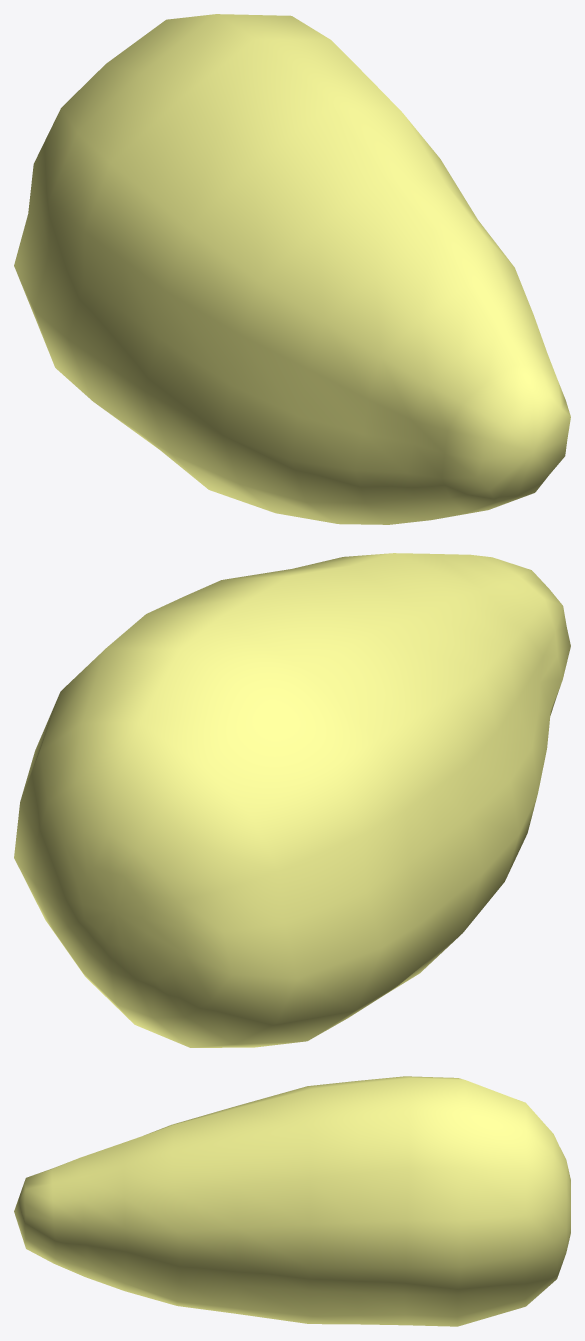
The model's file is Lettuce_7.obj.
3 renders of one model, top to bottom at view 1: azimuth 30°, elevation 25°; view 2: azimuth 150°, elevation 25°; view 3: azimuth 270°, elevation 25°, orthographic. The views are drawn at different scales.
Bounding box in the file's own units: 0.1202 × 0.1263 × 0.244.
